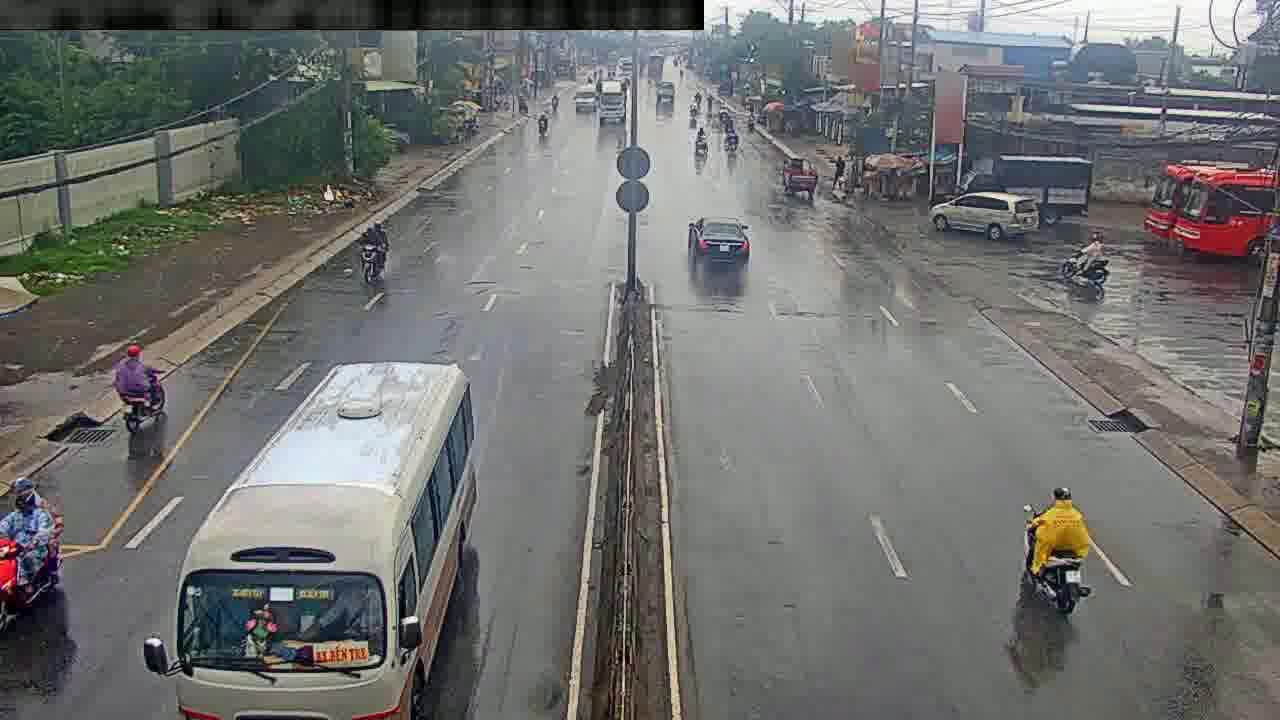8: (193, 345, 489, 720), (586, 81, 622, 122)
container: (691, 209, 751, 261)
motorbike: (1024, 475, 1091, 610), (3, 488, 64, 620), (117, 345, 158, 439), (1064, 240, 1107, 281), (361, 219, 387, 286), (725, 116, 739, 153), (696, 125, 710, 159), (539, 103, 550, 137)
